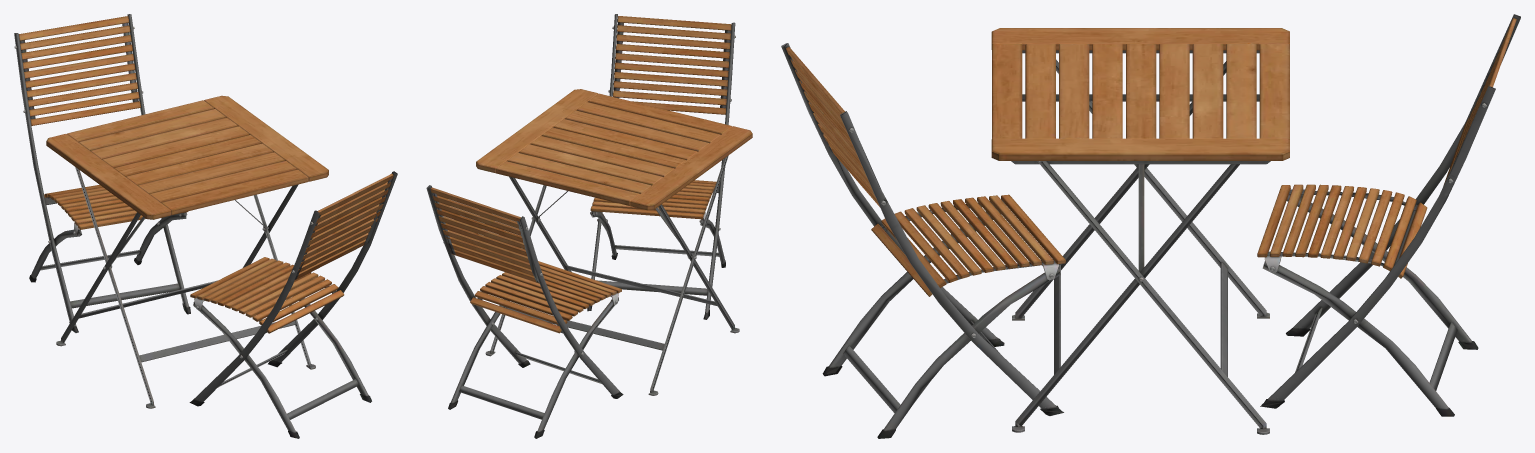
File: outdoor_table_chair_set_01.glb
3 views of the same model, side by side, from view 1: azimuth 30°, elevation 25°; view 2: azimuth 150°, elevation 25°; view 3: azimuth 270°, elevation 25° (orthographic). The views are drawn at different scales.
Parts seen in each view (by area): view 1: outdoor_table_chair_set_01_chair_01, outdoor_table_chair_set_01_table; view 2: outdoor_table_chair_set_01_chair_01, outdoor_table_chair_set_01_table; view 3: outdoor_table_chair_set_01_table, outdoor_table_chair_set_01_chair_01.
Part boxes in pixels (x1,y1,x2,y2): outdoor_table_chair_set_01_chair_01: (14,14,397,438); outdoor_table_chair_set_01_table: (46,95,328,408); outdoor_table_chair_set_01_chair_01: (426,14,735,438); outdoor_table_chair_set_01_table: (476,89,752,395); outdoor_table_chair_set_01_table: (991,28,1289,434); outdoor_table_chair_set_01_chair_01: (781,14,1520,438).
Size of the model in its own units: 0.7417 by 0.8579 by 1.72.
Materials: 2 (2 with a texture image).
